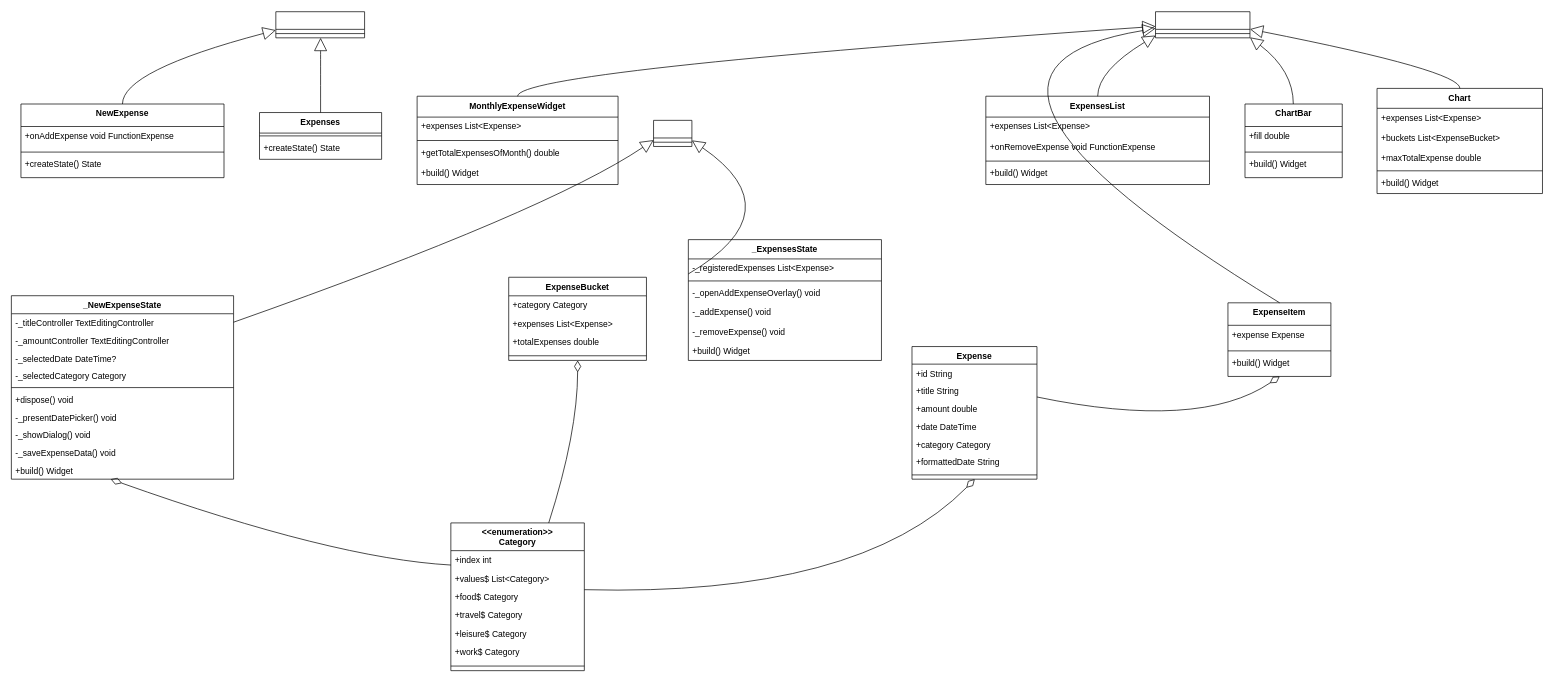
Some shapes in this 1554 by 682 pixel diagram are drawn without their labels. Here are the shapes that lost their labels. From the top down, the centre of each, then its label:
At point 320,24: "StatefulWidget".
At point 1202,24: "StatelessWidget".
At point 672,133: "State".
